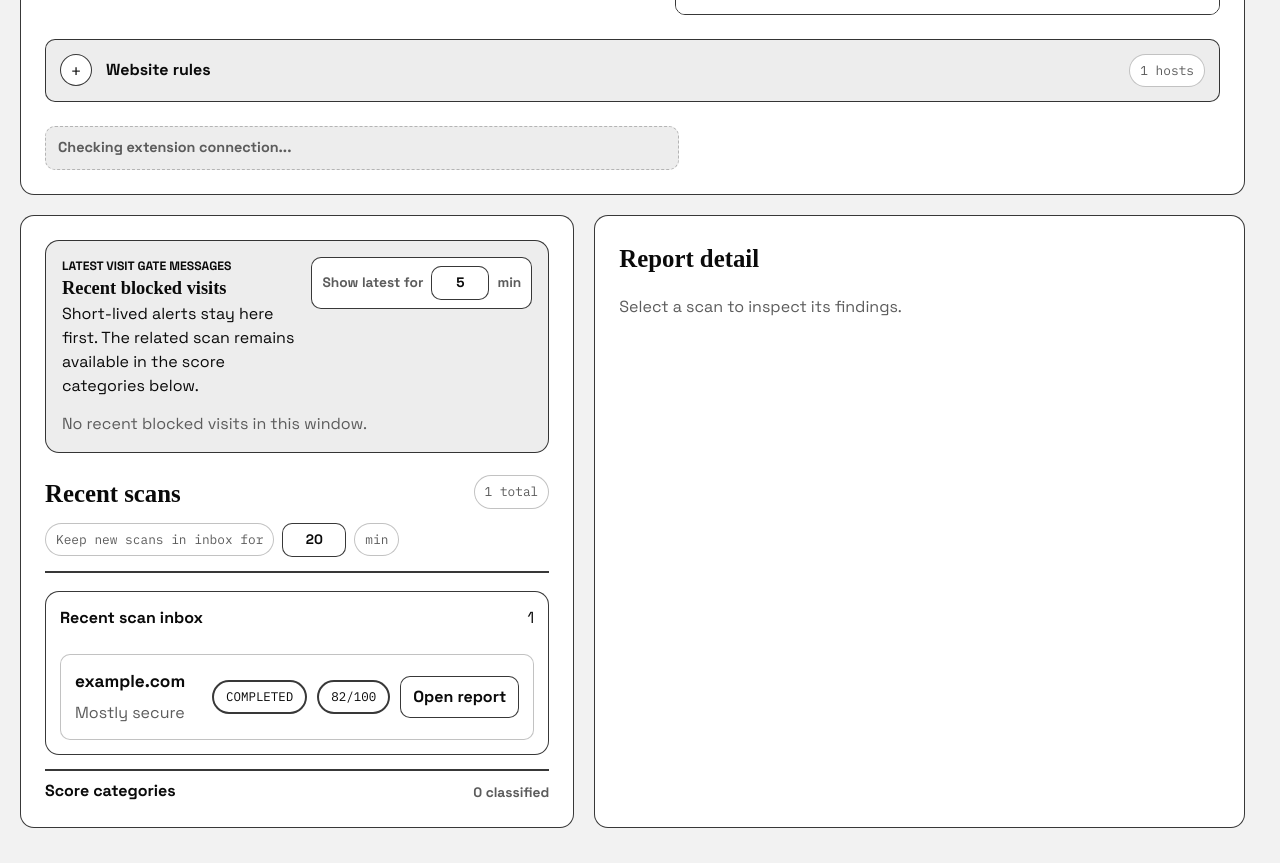
it: AppShell › loads scans, navigates to a report and renders its detail state
(page scrolled)
Expected: the heading "example.com" is shown, x1=75 y1=669 x2=196 y2=694
Click the button with aria-label "open report for example.com" at (297, 697), box x1=60 y1=654 x2=534 y2=740
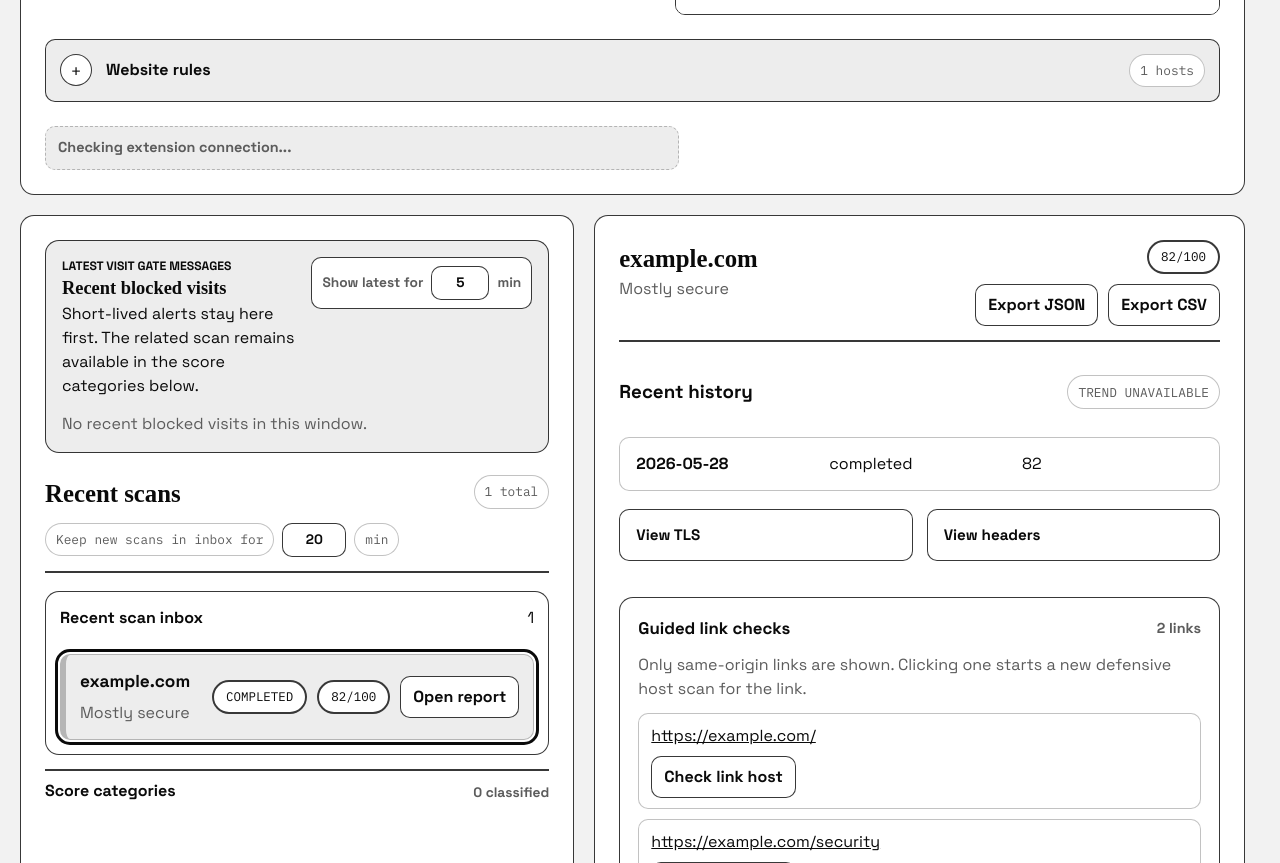
Now the button "View TLS" is shown, box x1=619 y1=509 x2=913 y2=561
